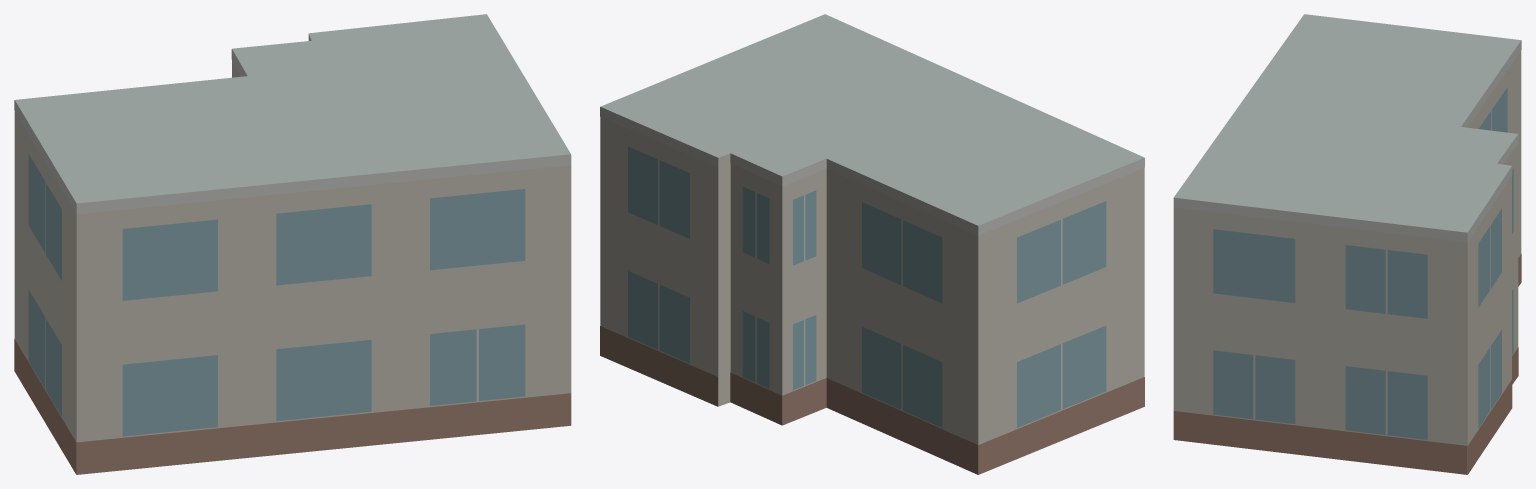
File: survey-upis-32711417.glb
3 views of the same model, side by side, from view 1: azimuth 30°, elevation 25°; view 2: azimuth 150°, elevation 25°; view 3: azimuth 270°, elevation 25° (orthographic). The views are drawn at different scales.
Visible parts, largest first — view 1: survey-upis-32711417.tmp; view 2: survey-upis-32711417.tmp; view 3: survey-upis-32711417.tmp.
Boxes of the visible parts, <box> form: survey-upis-32711417.tmp: <box>14,14,571,474</box>; survey-upis-32711417.tmp: <box>600,14,1144,474</box>; survey-upis-32711417.tmp: <box>1173,14,1521,474</box>.
Bounding box in the file's own units: 11.82 × 6.1 × 7.95.
